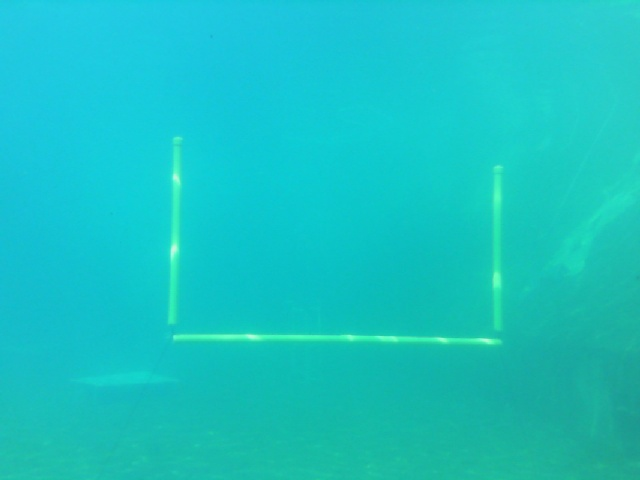channel: (163, 134, 511, 354)
